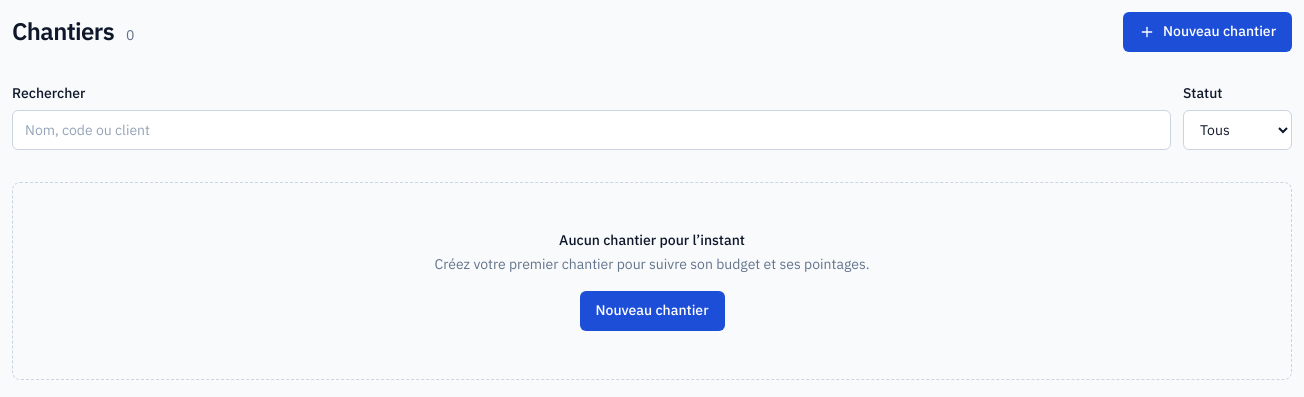
Test: WorksiteListPage › says "no result" under an active filter, and offers to clear it
Expected: the text "Aucun chantier pour l’instant" is shown, x1=559 y1=230 x2=745 y2=251
Select "Terminé" in the dropdown labelled "Statut": [1238, 130] box x1=1183 y1=110 x2=1292 y2=150
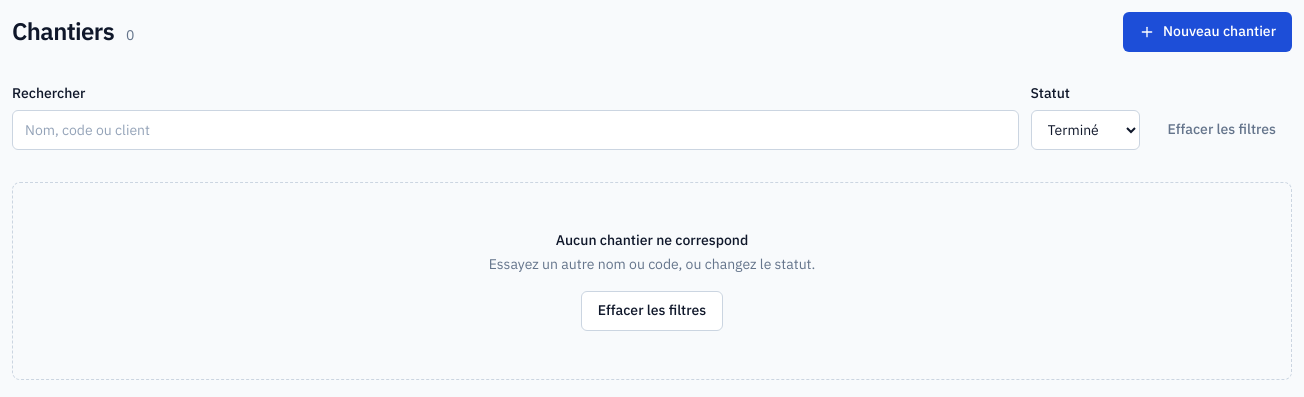
Now the text "Aucun chantier ne correspond" is shown, box x1=556 y1=230 x2=748 y2=251
Now the 1st button "Effacer les filtres" is shown, box x1=1152 y1=110 x2=1292 y2=150
